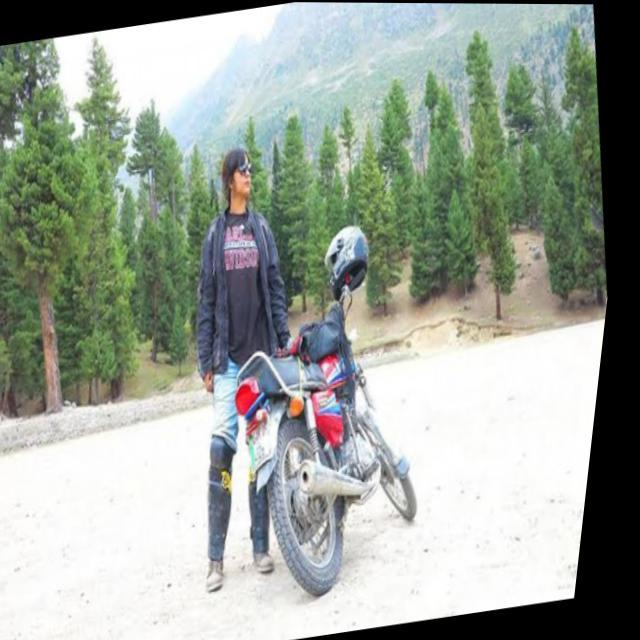Nonhelmet: (209, 140, 269, 212)
